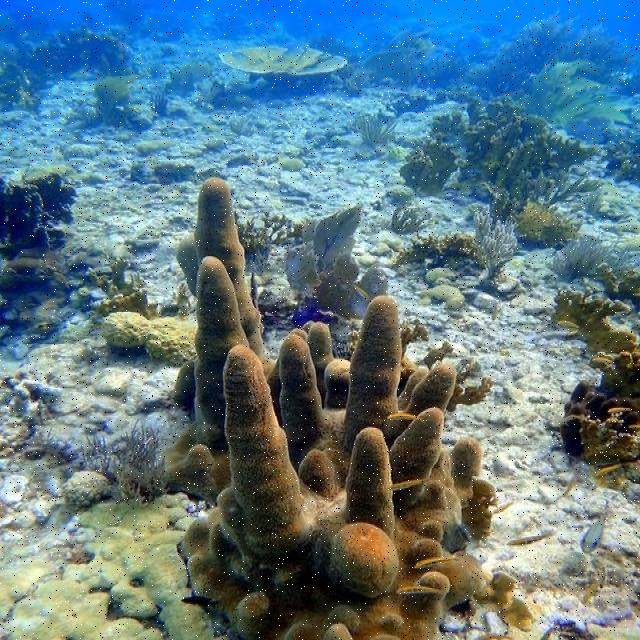aquatic plants: (166, 180, 497, 639)
fish: (221, 28, 349, 76), (581, 512, 607, 554), (382, 478, 425, 493), (507, 532, 552, 545), (415, 556, 458, 567), (595, 463, 622, 479), (396, 586, 442, 595), (388, 413, 424, 423), (494, 502, 512, 512)
